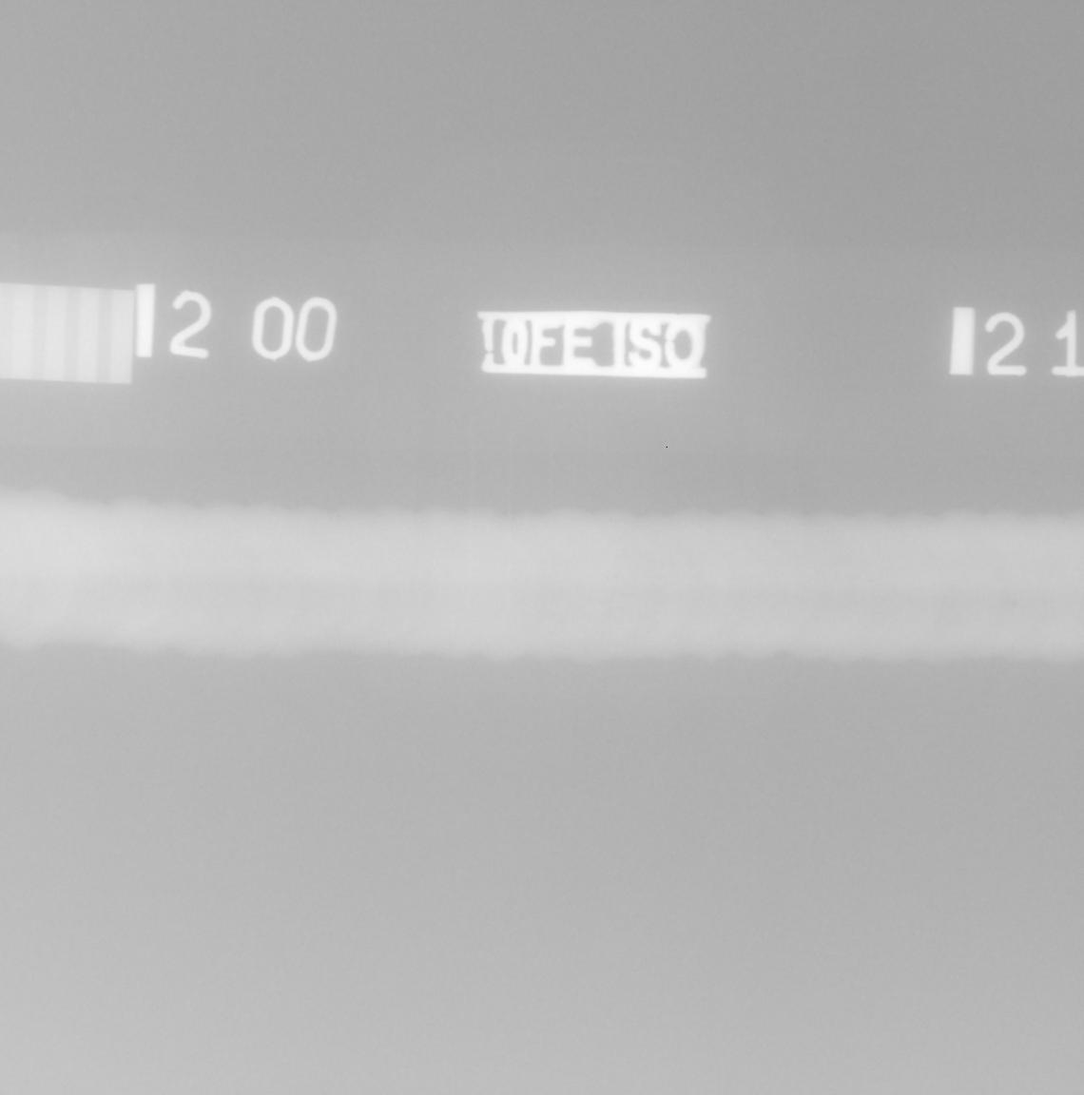Pore/Porosity: (1011, 603, 1018, 609)
